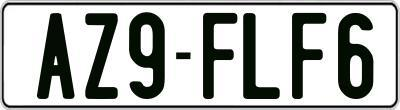6: (337, 12, 374, 103)
9: (126, 10, 164, 102)
A: (37, 13, 75, 102)
F: (290, 10, 327, 100), (201, 12, 236, 103)
L: (243, 11, 285, 99)
Z: (83, 11, 121, 98)
